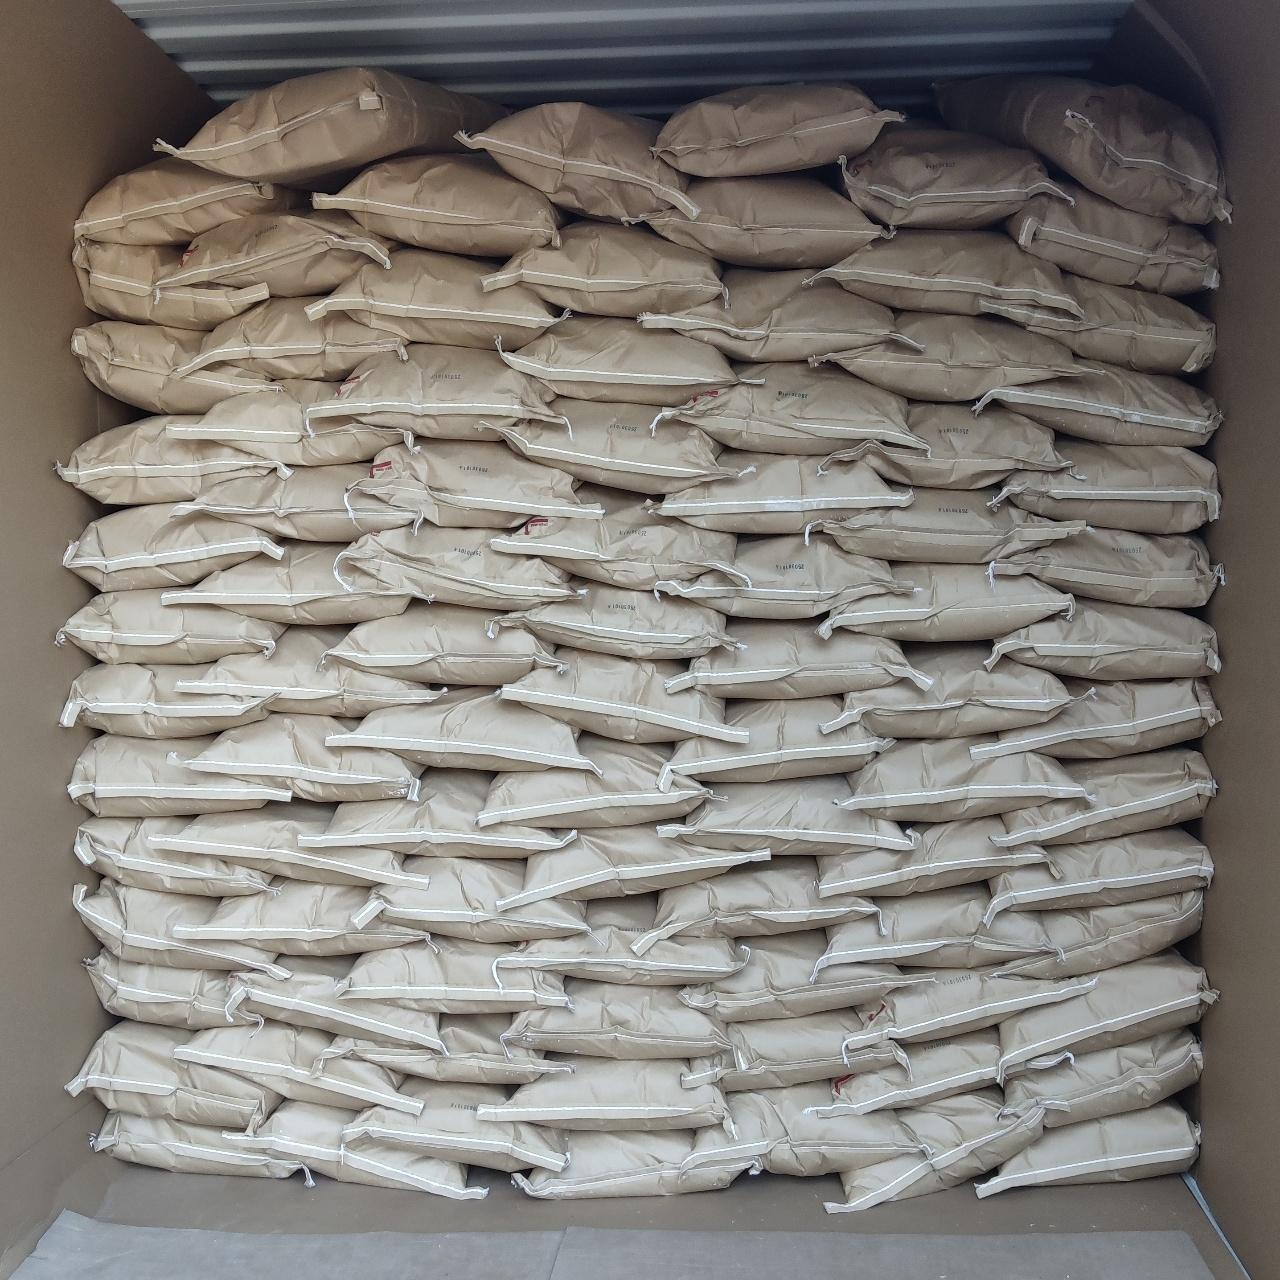sack: (940, 76, 1226, 222), (176, 68, 488, 188), (462, 104, 694, 222), (1000, 948, 1214, 1068), (832, 1090, 1042, 1212), (310, 248, 562, 348), (314, 154, 564, 254), (226, 1102, 486, 1198), (494, 486, 734, 588), (658, 362, 916, 454), (812, 312, 1088, 398), (310, 344, 562, 438), (176, 626, 444, 714), (840, 120, 1058, 228), (1006, 184, 1218, 294), (642, 174, 888, 268), (816, 1027, 1074, 1116), (640, 268, 894, 358), (302, 770, 572, 854), (500, 826, 766, 910), (652, 84, 898, 174), (154, 804, 424, 886), (484, 224, 724, 316), (508, 398, 738, 494), (632, 858, 872, 950), (992, 276, 1214, 374), (982, 828, 1212, 922), (498, 650, 732, 742), (174, 1022, 418, 1110), (68, 1024, 278, 1126), (1000, 746, 1214, 846), (478, 736, 708, 828), (328, 688, 586, 770), (818, 230, 1076, 312), (498, 896, 742, 982), (502, 316, 740, 404), (836, 644, 1068, 734), (814, 886, 1046, 976), (996, 438, 1218, 532), (970, 678, 1218, 762), (688, 1082, 914, 1174), (174, 714, 420, 798), (658, 536, 908, 618), (842, 738, 1086, 822), (976, 1102, 1198, 1194), (978, 362, 1220, 446), (656, 452, 908, 532), (350, 1078, 564, 1172), (682, 932, 908, 1020), (228, 956, 444, 1048), (166, 382, 414, 462), (814, 488, 1082, 562), (338, 524, 574, 608), (658, 776, 910, 854), (832, 402, 1066, 486), (850, 968, 1088, 1050), (354, 858, 586, 942), (360, 440, 584, 526), (168, 542, 408, 622), (160, 212, 394, 294), (58, 418, 286, 502), (74, 880, 282, 972), (668, 620, 926, 694), (176, 464, 418, 542), (1004, 1030, 1200, 1126), (176, 878, 428, 952), (818, 564, 1070, 638), (490, 582, 734, 658), (74, 158, 284, 246), (332, 602, 556, 684), (64, 506, 282, 590), (984, 600, 1218, 678), (72, 322, 270, 414), (184, 298, 406, 380), (668, 698, 890, 780), (990, 528, 1222, 606), (992, 892, 1202, 978), (816, 818, 1046, 894), (684, 1010, 902, 1090), (480, 1056, 726, 1126), (70, 736, 288, 814), (76, 240, 268, 328), (344, 936, 566, 1012), (506, 980, 726, 1056), (514, 1130, 758, 1198), (330, 1016, 570, 1084), (56, 592, 282, 662), (75, 817, 272, 896), (90, 1112, 312, 1182), (86, 946, 260, 1030), (62, 664, 266, 734)
